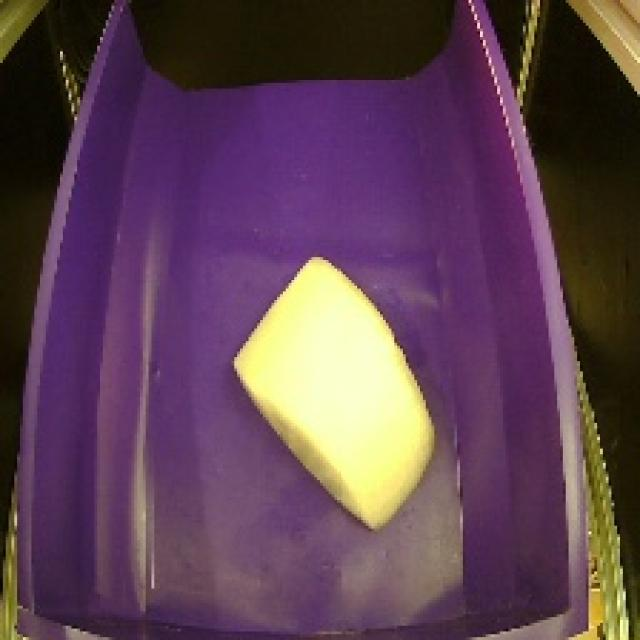white_radish: (215, 248, 456, 526)
